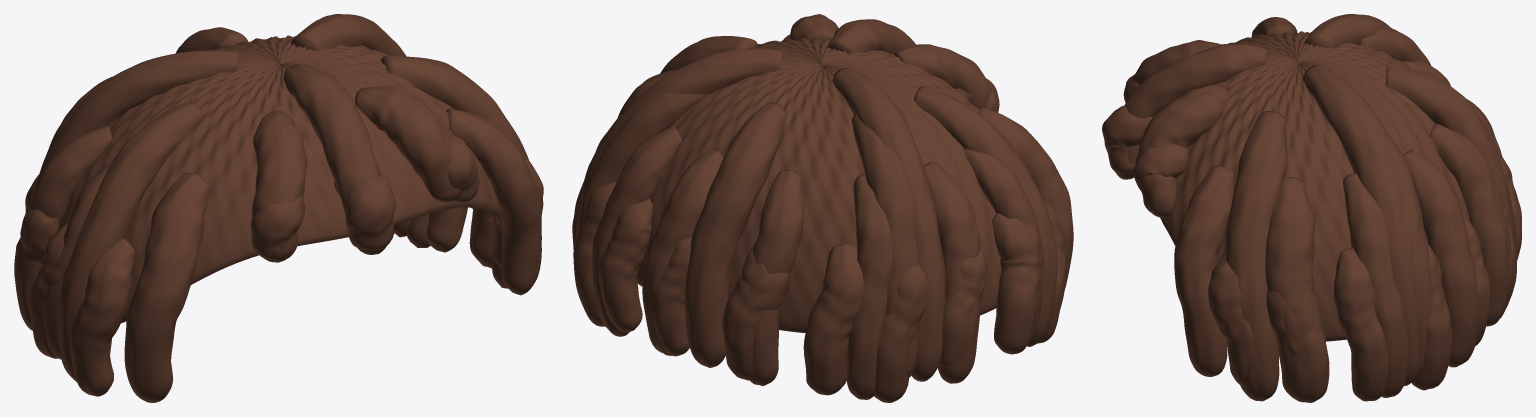
Rendered from Masculine-locs-ears260-hair.glb.
The picture shows the model from 3 angles, left to right: view 1: azimuth 30°, elevation 25°; view 2: azimuth 150°, elevation 25°; view 3: azimuth 270°, elevation 25°; orthographic projection. The views are drawn at different scales.
Parts seen in each view (by area): view 1: 226 hair / Hair260 / mature compact locs; view 2: 226 hair / Hair260 / mature compact locs; view 3: 226 hair / Hair260 / mature compact locs.
Boxes of the visible parts, <box> form: 226 hair / Hair260 / mature compact locs: <box>14,14,543,402</box>; 226 hair / Hair260 / mature compact locs: <box>572,14,1073,402</box>; 226 hair / Hair260 / mature compact locs: <box>1102,14,1521,402</box>.
Bounding box in the file's own units: 1.14 × 0.6578 × 0.9335.
